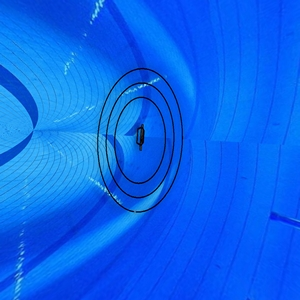circle: (94, 64, 185, 215)
submarine: (132, 121, 153, 156)
